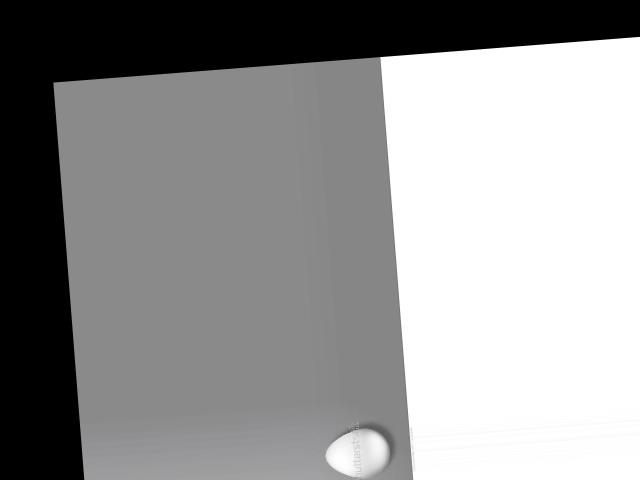egg: (322, 426, 391, 480)
